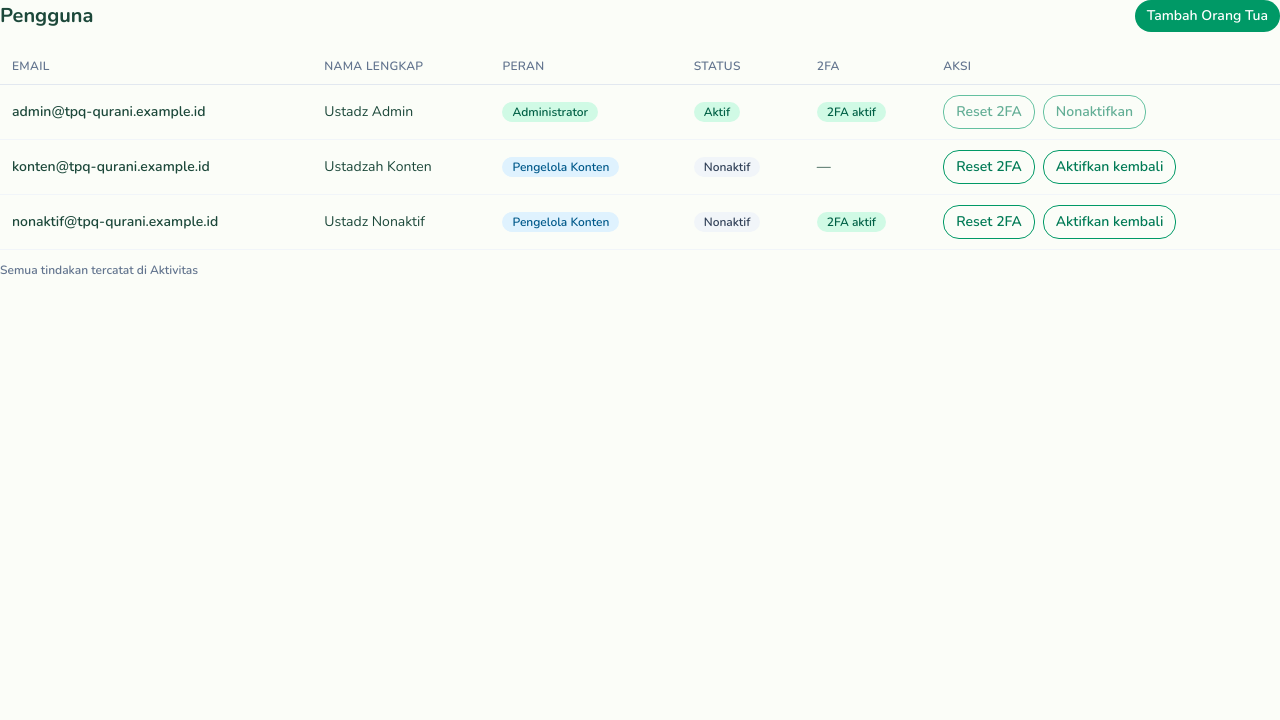
Scenario: Users management › reactivates a deactivated user after confirmation
Expected: the text "admin@tpq-qurani.example.id" is shown, [0, 84, 312, 140]
Click the button "Aktifkan kembali" in the row of "nonaktif@tpq-qurani.example.id": (1110, 222) [1043, 205, 1176, 239]
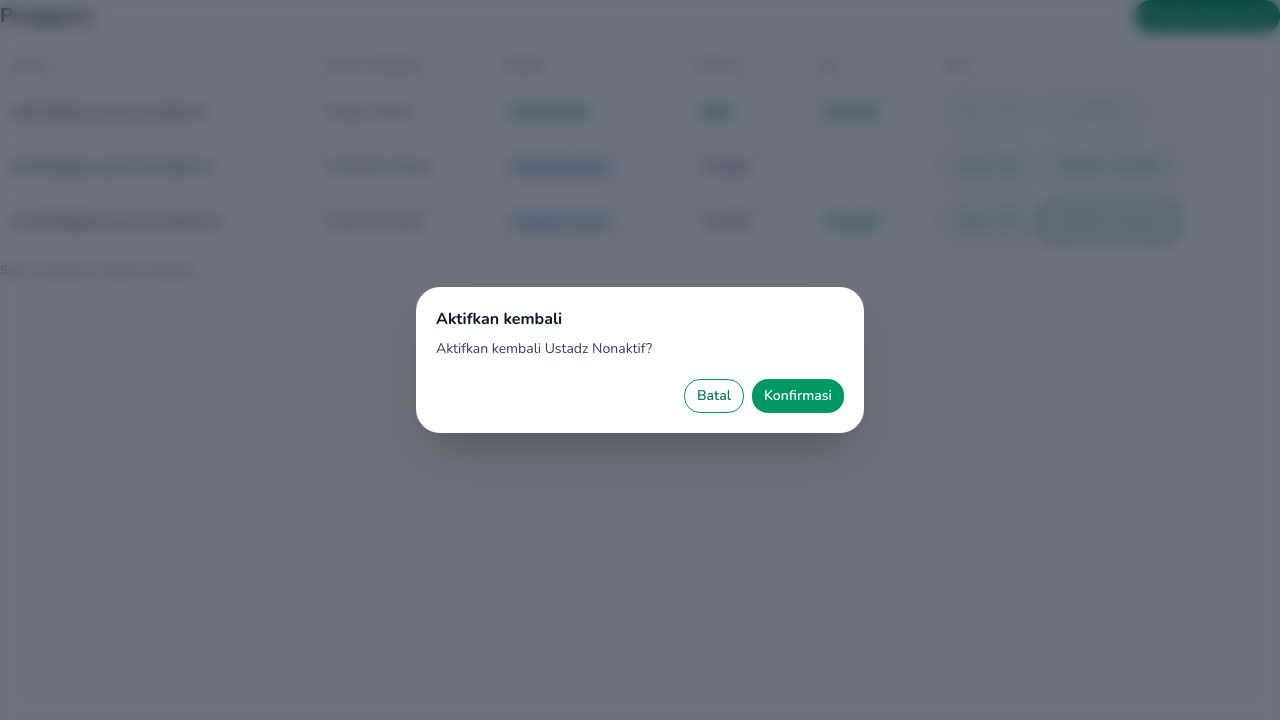
Click the button "Konfirmasi": (798, 396) [752, 379, 844, 413]
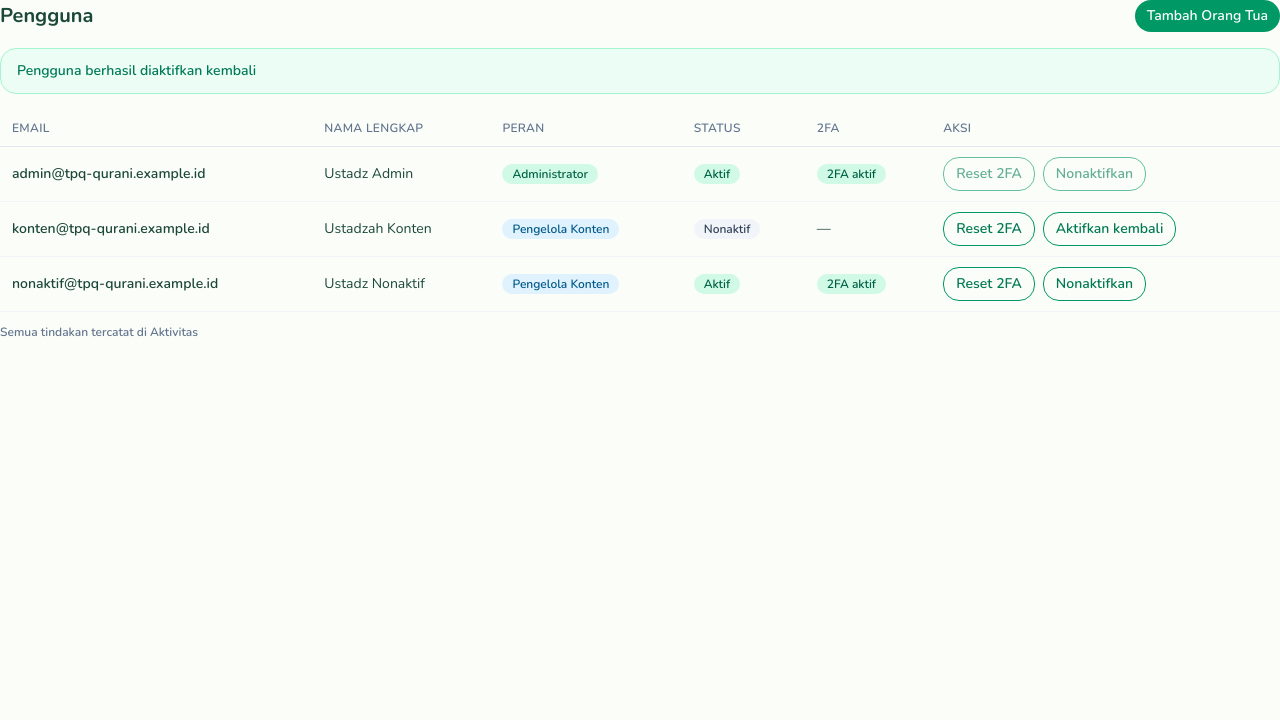
Expected: the text "Aktif" in the row of "nonaktif@tpq-qurani.example.id" is shown, [704, 276, 730, 292]
Expected: the button "Nonaktifkan" in the row of "nonaktif@tpq-qurani.example.id" is shown, [1043, 267, 1146, 301]
